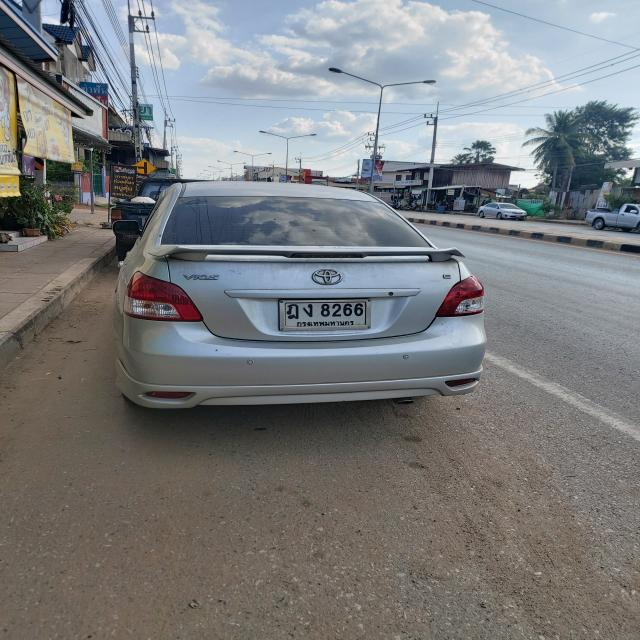license_plate: (285, 300, 366, 328)
